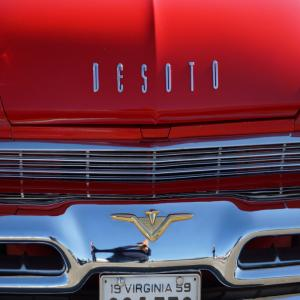Vehicle-registration-plate: (100, 271, 202, 300)
